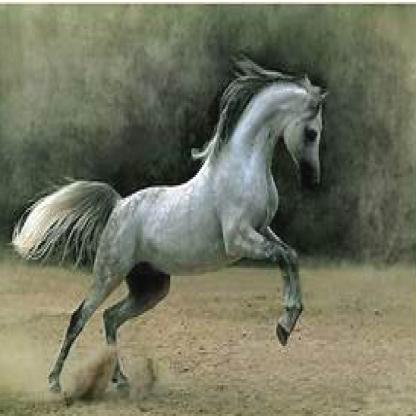horse: (9, 54, 330, 394)
